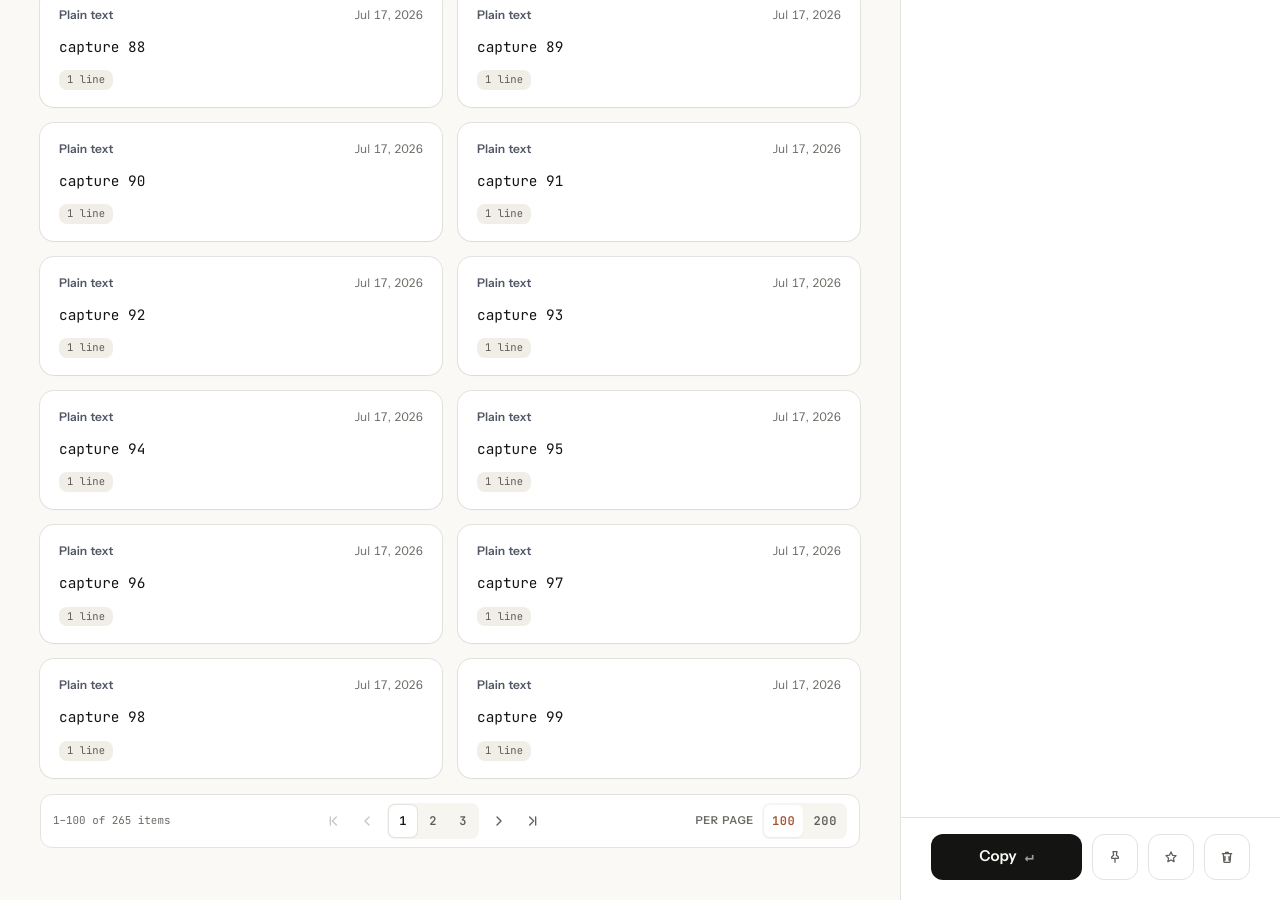
Test case: ClipboardPage › pages through history and reports the range on screen
(page scrolled)
Expected: the text "1–100 of 265 items" is shown, x1=53 y1=812 x2=170 y2=829
Step 1. Click the button named "Next page" → click(499, 821), box x1=485 y1=805 x2=513 y2=837
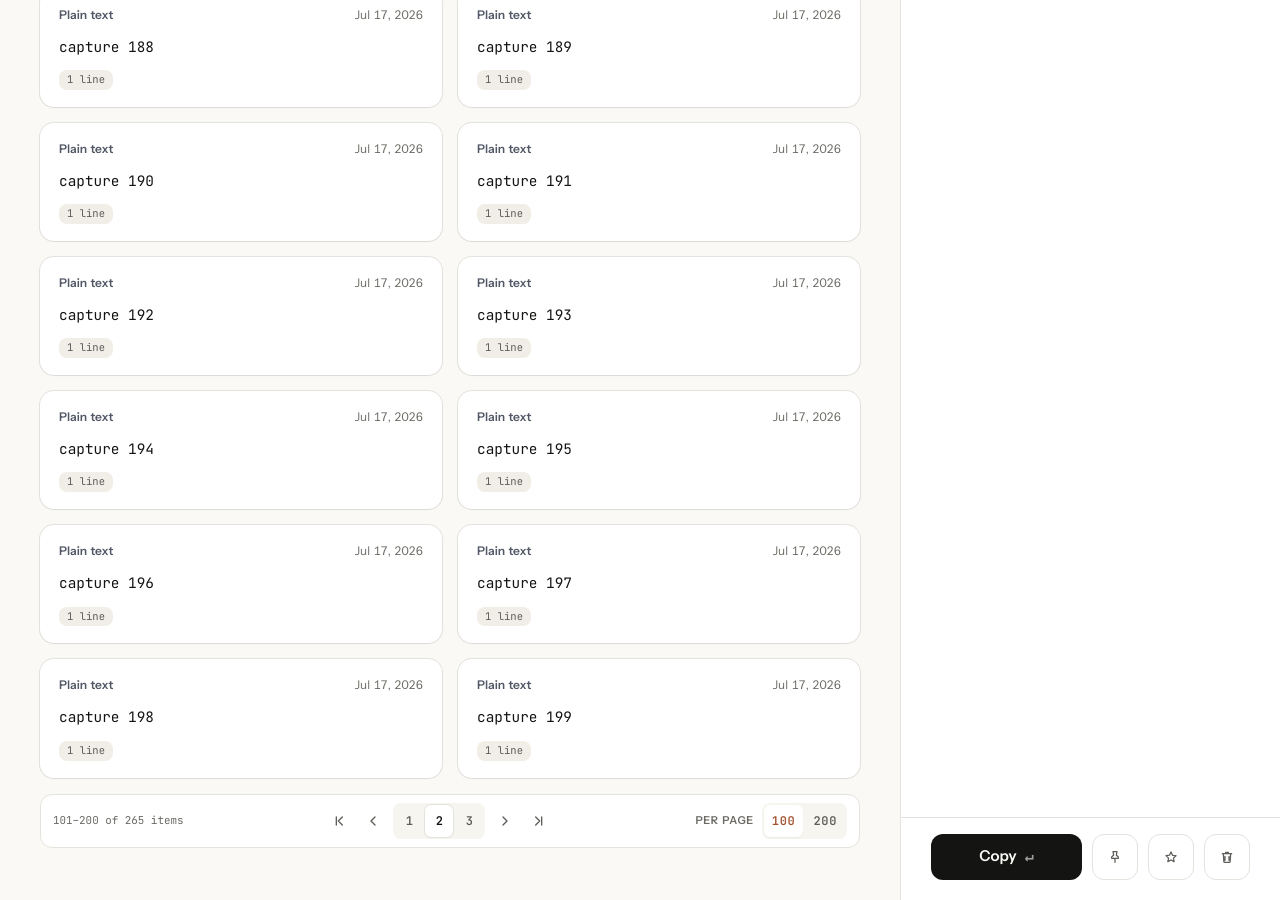
Expected: the text "101–200 of 265 items" is shown, x1=53 y1=812 x2=184 y2=829
Step 2. Click the button named "Last page" → click(540, 821), box x1=526 y1=805 x2=554 y2=837
(page scrolled)
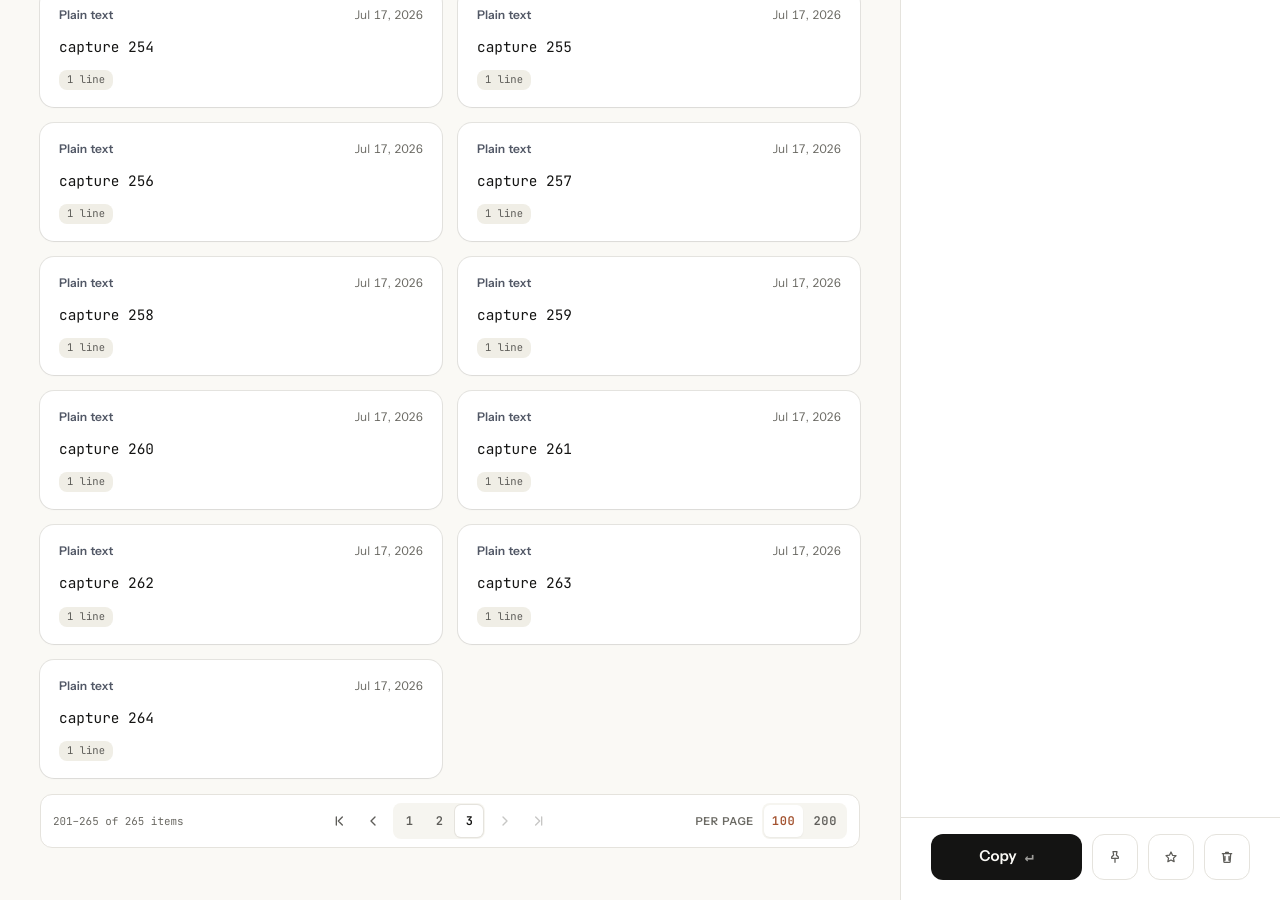
Expected: the text "201–265 of 265 items" is shown, x1=53 y1=812 x2=184 y2=829
